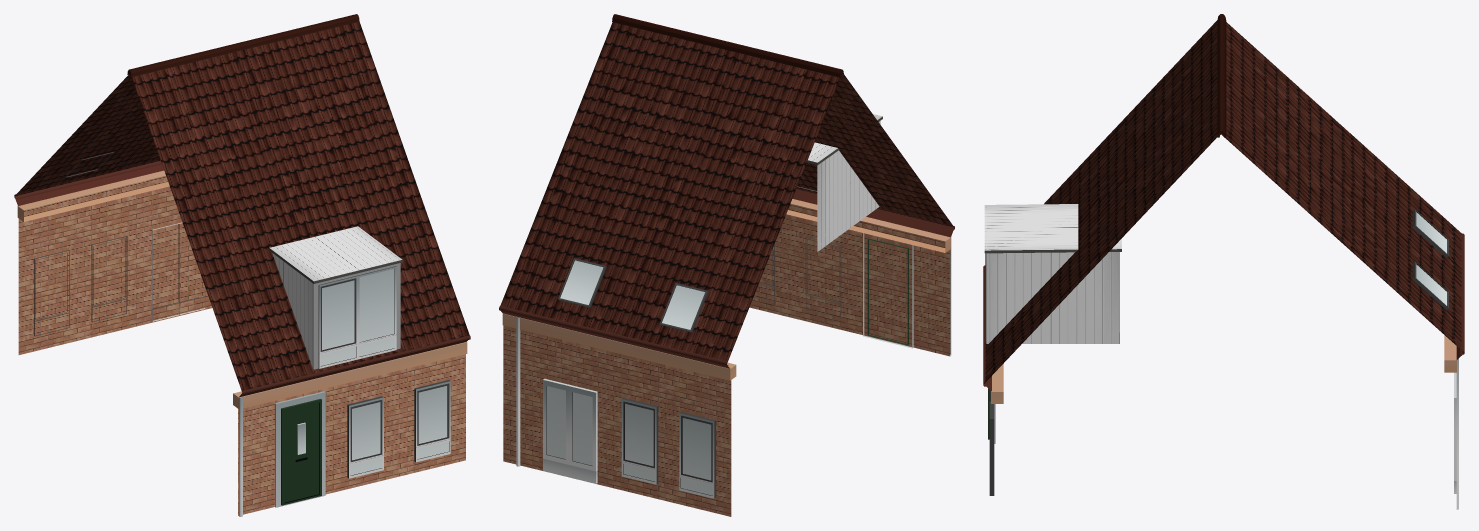
The model's file is It_Dwershus_3_15.fbx.
3 views of the same model, side by side, from view 1: azimuth 30°, elevation 25°; view 2: azimuth 150°, elevation 25°; view 3: azimuth 270°, elevation 25° (orthographic). The views are drawn at different scales.
Parts seen in each view (by area): view 1: It_Dwershus_3_15; view 2: It_Dwershus_3_15; view 3: It_Dwershus_3_15.
Boxes of the visible parts, x1,y1,x2,y2 form: It_Dwershus_3_15: [14, 14, 470, 516]; It_Dwershus_3_15: [499, 14, 954, 516]; It_Dwershus_3_15: [983, 14, 1464, 509].
Bounding box in the file's own units: 596 × 915 × 1034.
